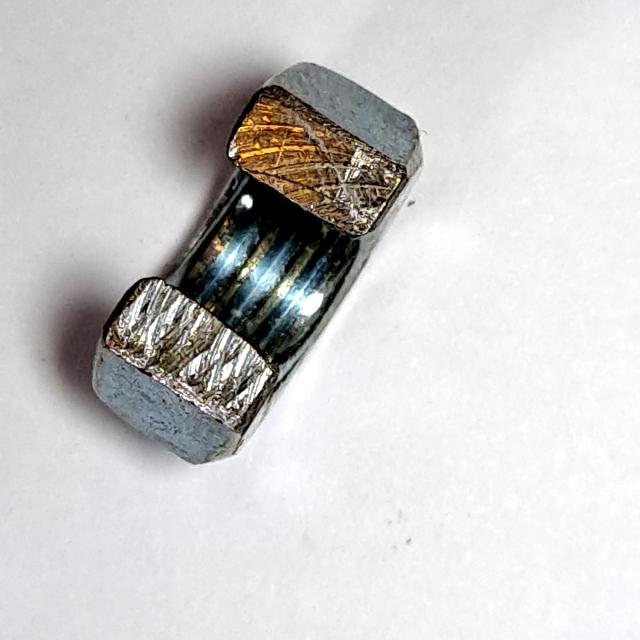Side-Fracture: (81, 42, 436, 475)
